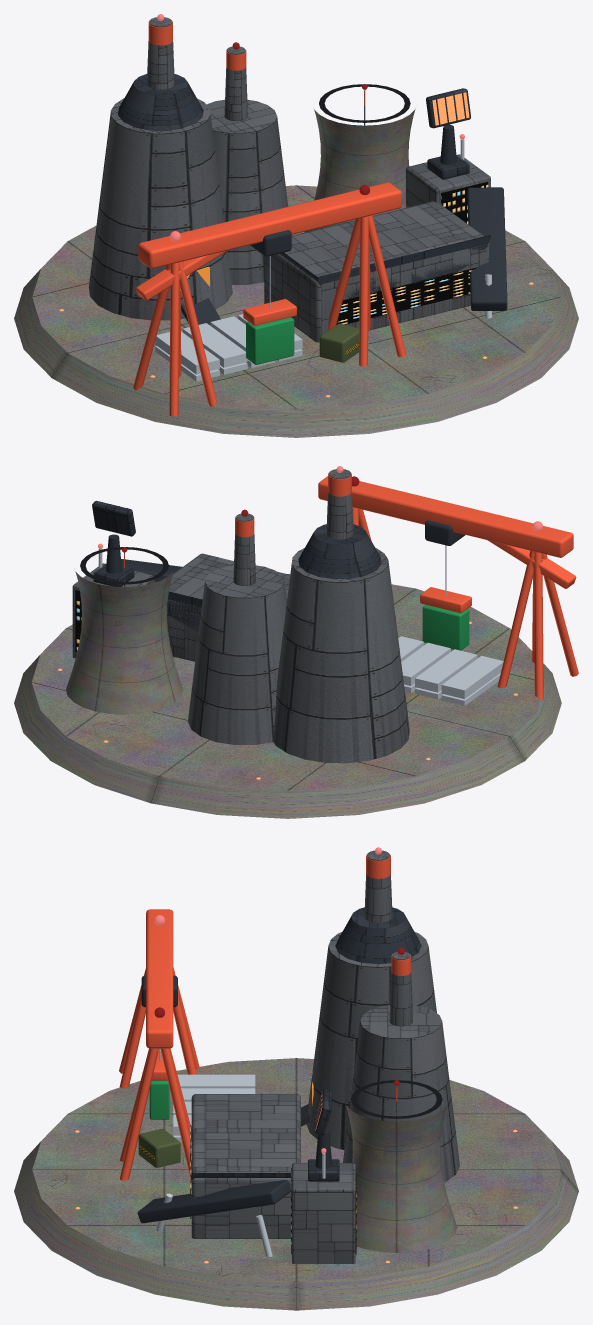
File: steel-T5.glb
The picture shows the model from 3 angles, top to bottom: view 1: azimuth 30°, elevation 25°; view 2: azimuth 150°, elevation 25°; view 3: azimuth 270°, elevation 25°; orthographic projection. The views are drawn at different scales.
Parts seen in each view (by area): view 1: object 1, object 12, object 25, object 18, object 44, object 21, object 49, anim:trolley, anim:smoke (×2), object 13, object 27, object 26 (+18 smaller); view 2: object 1, object 12, object 18, object 21, object 44, anim:trolley, object 25, anim:smoke (×2), object 13, object 32, object 36, object 33 (+11 smaller); view 3: object 1, object 25, object 21, object 18, object 12, object 52, object 44, anim:smoke (×2), object 49, object 13, anim:trolley, object 43 (+7 smaller).
Part boxes in pixels (bbox=[...]): object 1: bbox=[14, 185, 578, 437]; object 12: bbox=[89, 98, 232, 320]; object 25: bbox=[264, 201, 489, 342]; object 18: bbox=[206, 99, 288, 284]; object 44: bbox=[138, 182, 401, 268]; object 21: bbox=[304, 109, 415, 232]; object 49: bbox=[467, 187, 507, 310]; anim:trolley: bbox=[243, 230, 296, 364]; anim:smoke (×2): bbox=[146, 17, 247, 120]; object 13: bbox=[118, 74, 203, 130]; object 27: bbox=[336, 267, 475, 324]; object 26: bbox=[279, 235, 490, 297]; object 1: bbox=[14, 574, 561, 818]; object 12: bbox=[273, 547, 409, 763]; object 18: bbox=[188, 565, 286, 744]; object 21: bbox=[66, 570, 182, 714]; object 44: bbox=[318, 476, 573, 557]; anim:trolley: bbox=[420, 520, 471, 650]; object 25: bbox=[167, 553, 290, 661]; anim:smoke (×2): bbox=[233, 469, 353, 585]; object 13: bbox=[298, 524, 381, 579]; object 32: bbox=[441, 655, 503, 699]; object 36: bbox=[533, 552, 543, 700]; object 33: bbox=[415, 649, 477, 692]; object 1: bbox=[14, 1058, 578, 1310]; object 25: bbox=[191, 1094, 300, 1238]; object 21: bbox=[345, 1104, 457, 1252]; object 18: bbox=[343, 1005, 459, 1182]; object 12: bbox=[306, 931, 436, 1149]; object 52: bbox=[292, 1163, 355, 1263]; object 44: bbox=[146, 909, 173, 1048]; anim:smoke (×2): bbox=[364, 850, 412, 1026]; object 49: bbox=[137, 1180, 290, 1223]; object 13: bbox=[335, 907, 421, 964]; anim:trolley: bbox=[141, 975, 177, 1119]; object 43: bbox=[120, 1048, 158, 1180].
Size of the model in its own units: 6.2 by 3.6 by 6.2.
20 materials, 6 textured.
